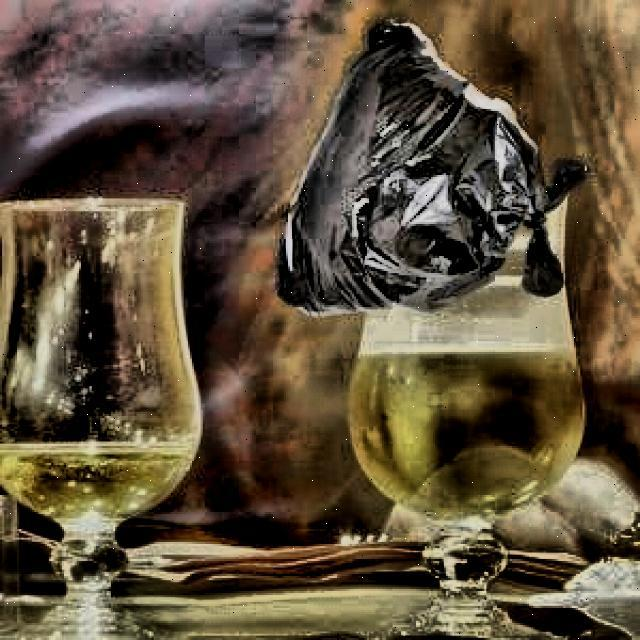Trashbag: (267, 4, 601, 324)
